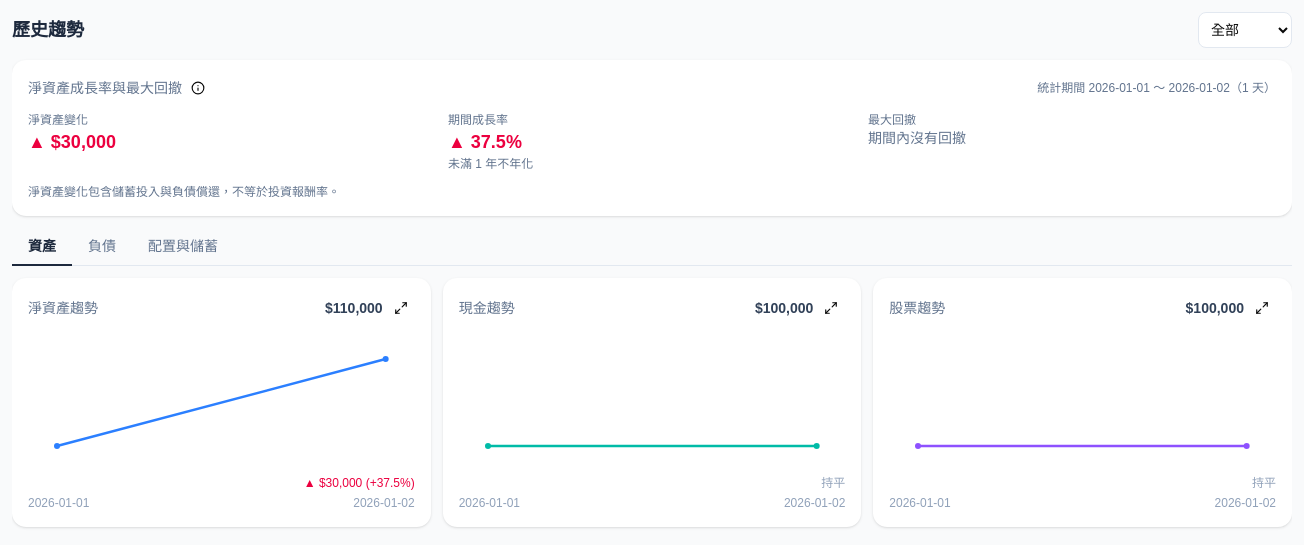
it: TrendSection › 儲蓄率／每月應還款／資產配置趨勢 › 每月應還款趨勢顯示最新月付，並附與上一筆比對的增減
The image size is (1304, 545).
Press the mouse on the tab "負債" at (102, 247), box [72,228,132,266]
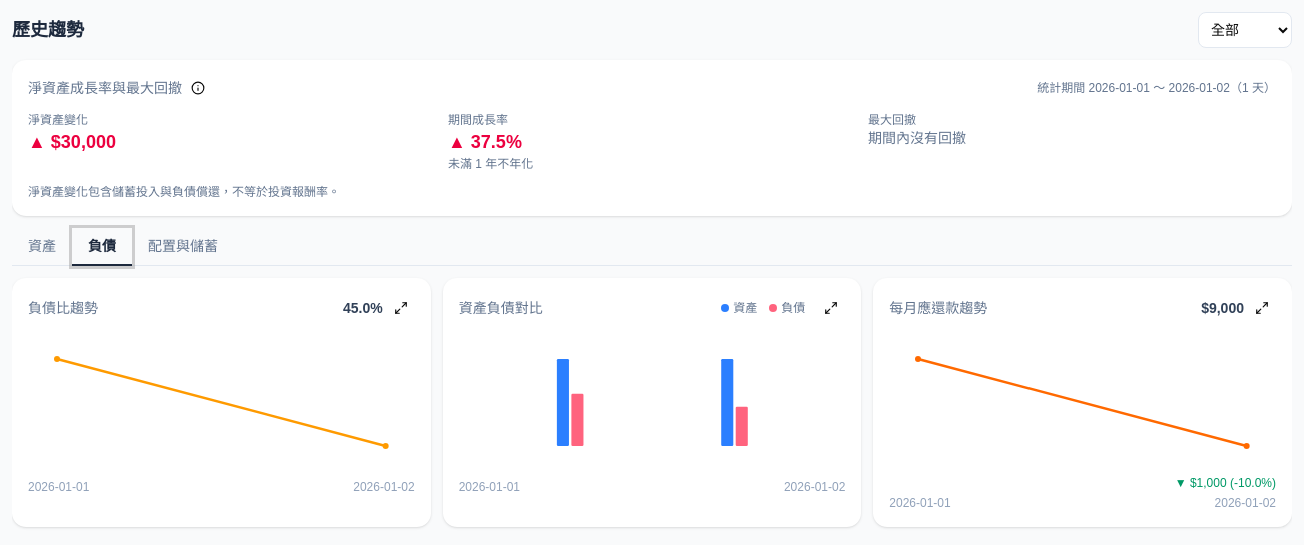
Expected: the text "$9,000" is shown, [1201,298,1244,318]
Expected: the text "每月應還款趨勢" shows "▼ $1,000 (-10.0%)", [873,278,1292,527]
